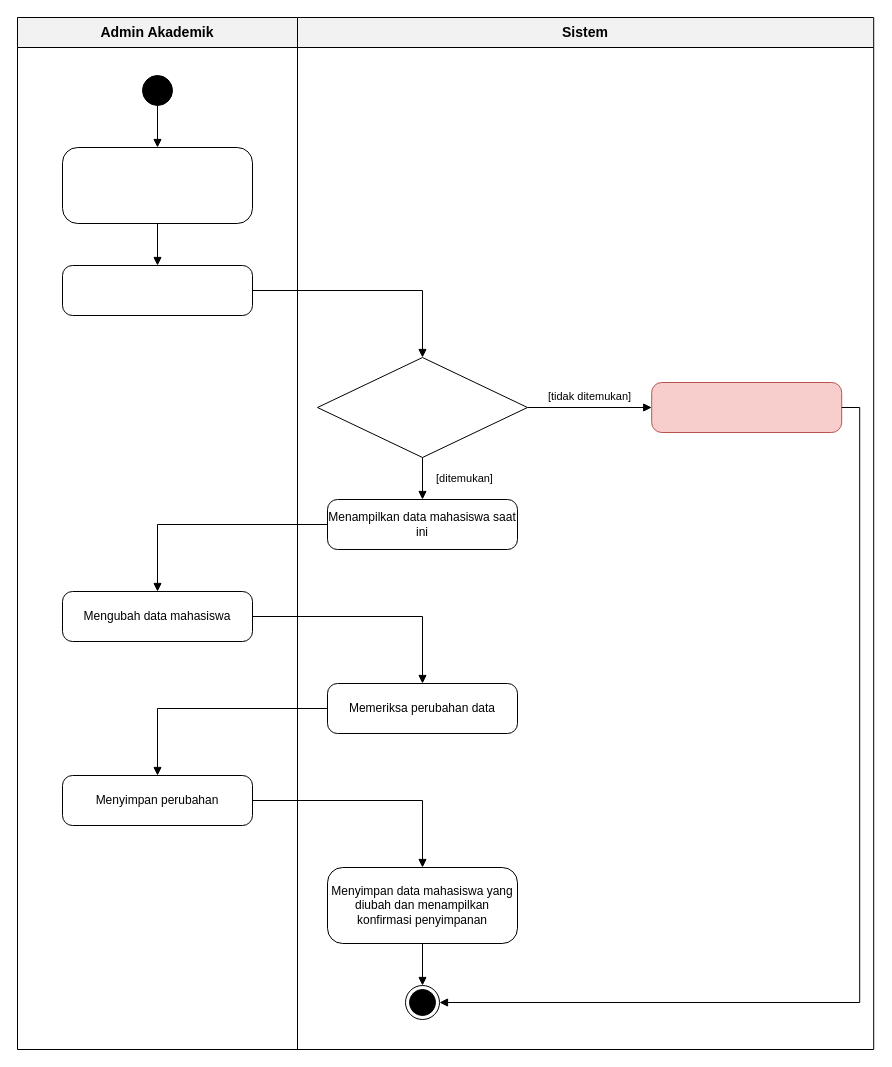
Image size: 892x1067. Some labels were removed from this diagram. The shapes that lost their labels are listed below. From the top down, each one's centre as x and y in pixels, then its label:
point 157,185: Memilih bentuk pengelolaan ubah (langkah bersama SIA-UC10 langkah 1 sampai 3)
point 157,290: Memilih data mahasiswa yang akan diubah
point 422,407: Data mahasiswa ditemukan?
point 746,407: Menampilkan pesan data mahasiswa tidak ditemukan
